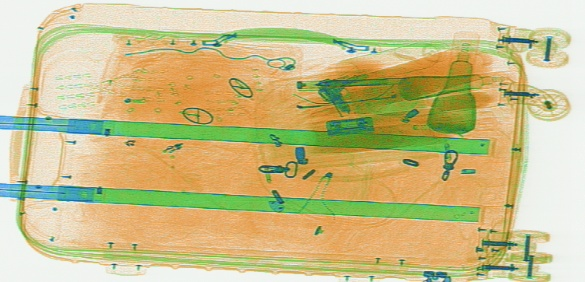drinkbottle: (316, 45, 487, 115)
glassbottle: (426, 50, 474, 136), (399, 71, 490, 101)
